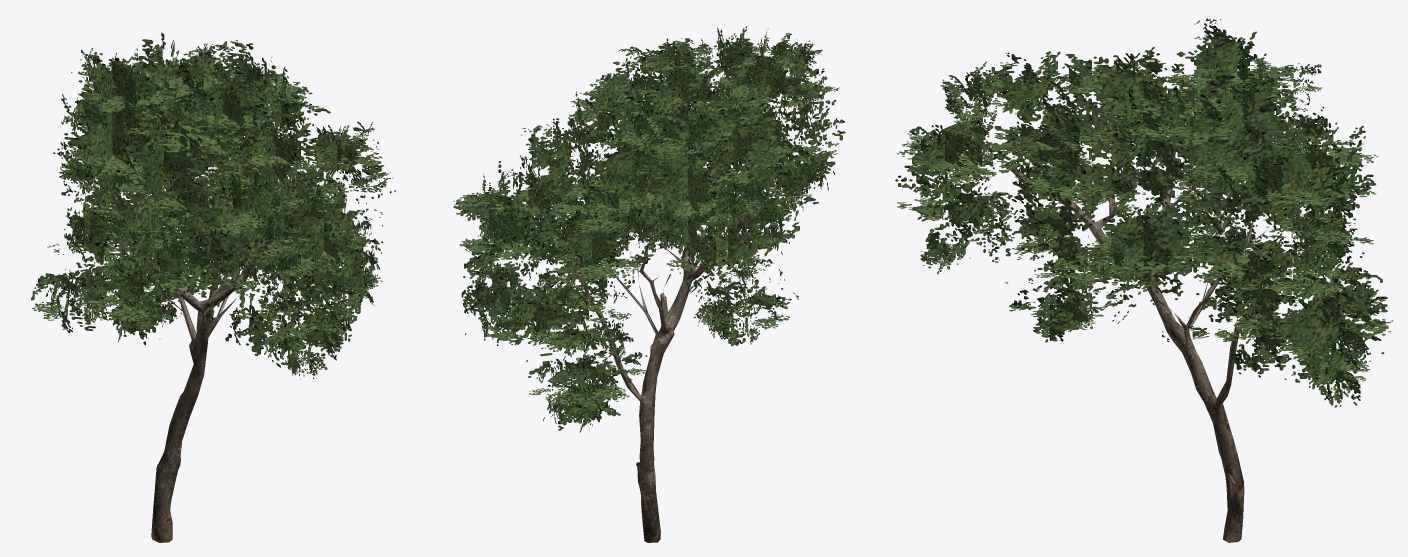
Rendered from tree_small_02-low.glb.
3 views of the same model, side by side, from view 1: azimuth 30°, elevation 25°; view 2: azimuth 150°, elevation 25°; view 3: azimuth 270°, elevation 25° (orthographic). The views are drawn at different scales.
Parts seen in each view (by area): view 1: baked-leaf-clusters, tree_small_02_LOD0; view 2: baked-leaf-clusters, tree_small_02_LOD0; view 3: baked-leaf-clusters, tree_small_02_LOD0.
Boxes of the visible parts, left/top/right/bottom form: baked-leaf-clusters: left=31, top=32, right=395, bottom=379; tree_small_02_LOD0: left=108, top=87, right=328, bottom=542; baked-leaf-clusters: left=453, top=26, right=845, bottom=432; tree_small_02_LOD0: left=543, top=78, right=789, bottom=542; baked-leaf-clusters: left=895, top=18, right=1393, bottom=407; tree_small_02_LOD0: left=985, top=109, right=1304, bottom=542.
Size of the model in its own units: 2.92 by 4.56 by 4.29.
3 materials, 3 textured.
